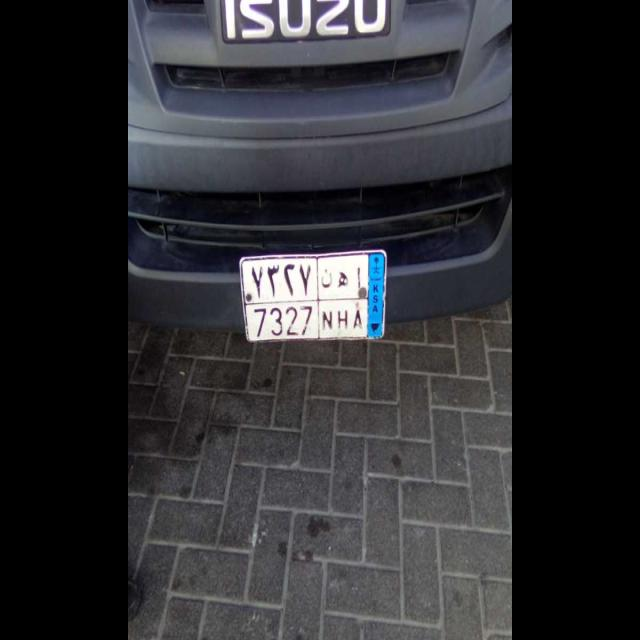license_plate: (245, 302, 369, 344)
